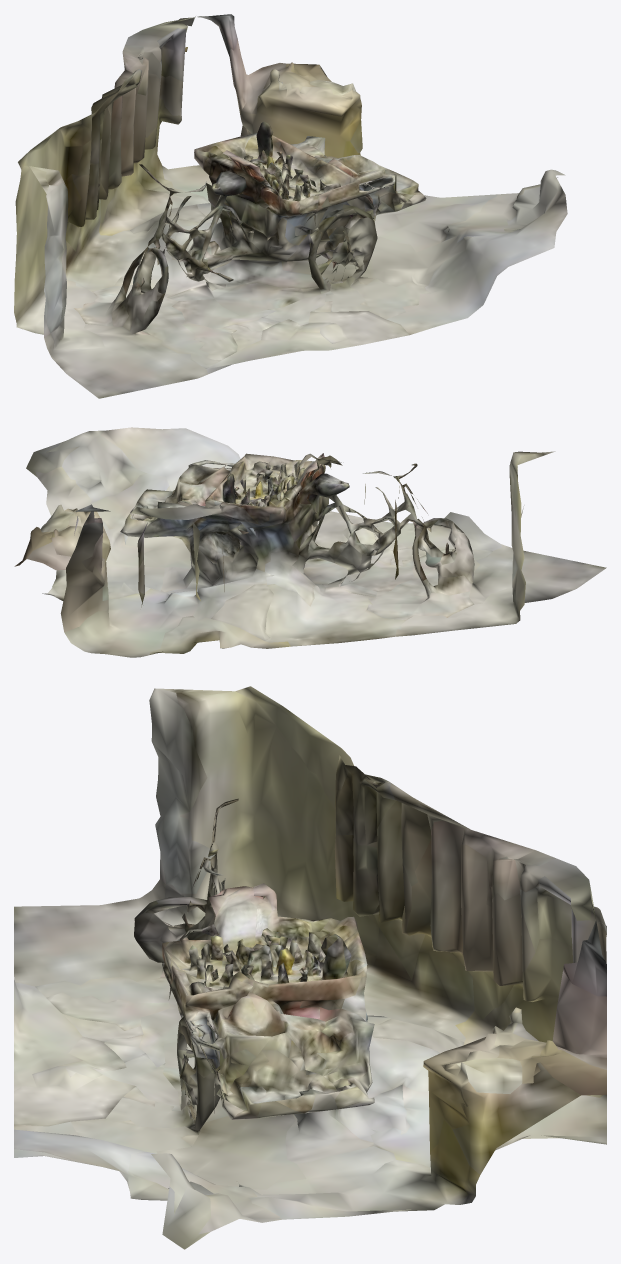
The model's file is hall.glb.
The picture shows the model from 3 angles, top to bottom: view 1: azimuth 30°, elevation 25°; view 2: azimuth 150°, elevation 25°; view 3: azimuth 270°, elevation 25°; orthographic projection. The views are drawn at different scales.
Bounding box in the file's own units: 2.4 × 0.837 × 1.65.
1 material, 1 textured.
